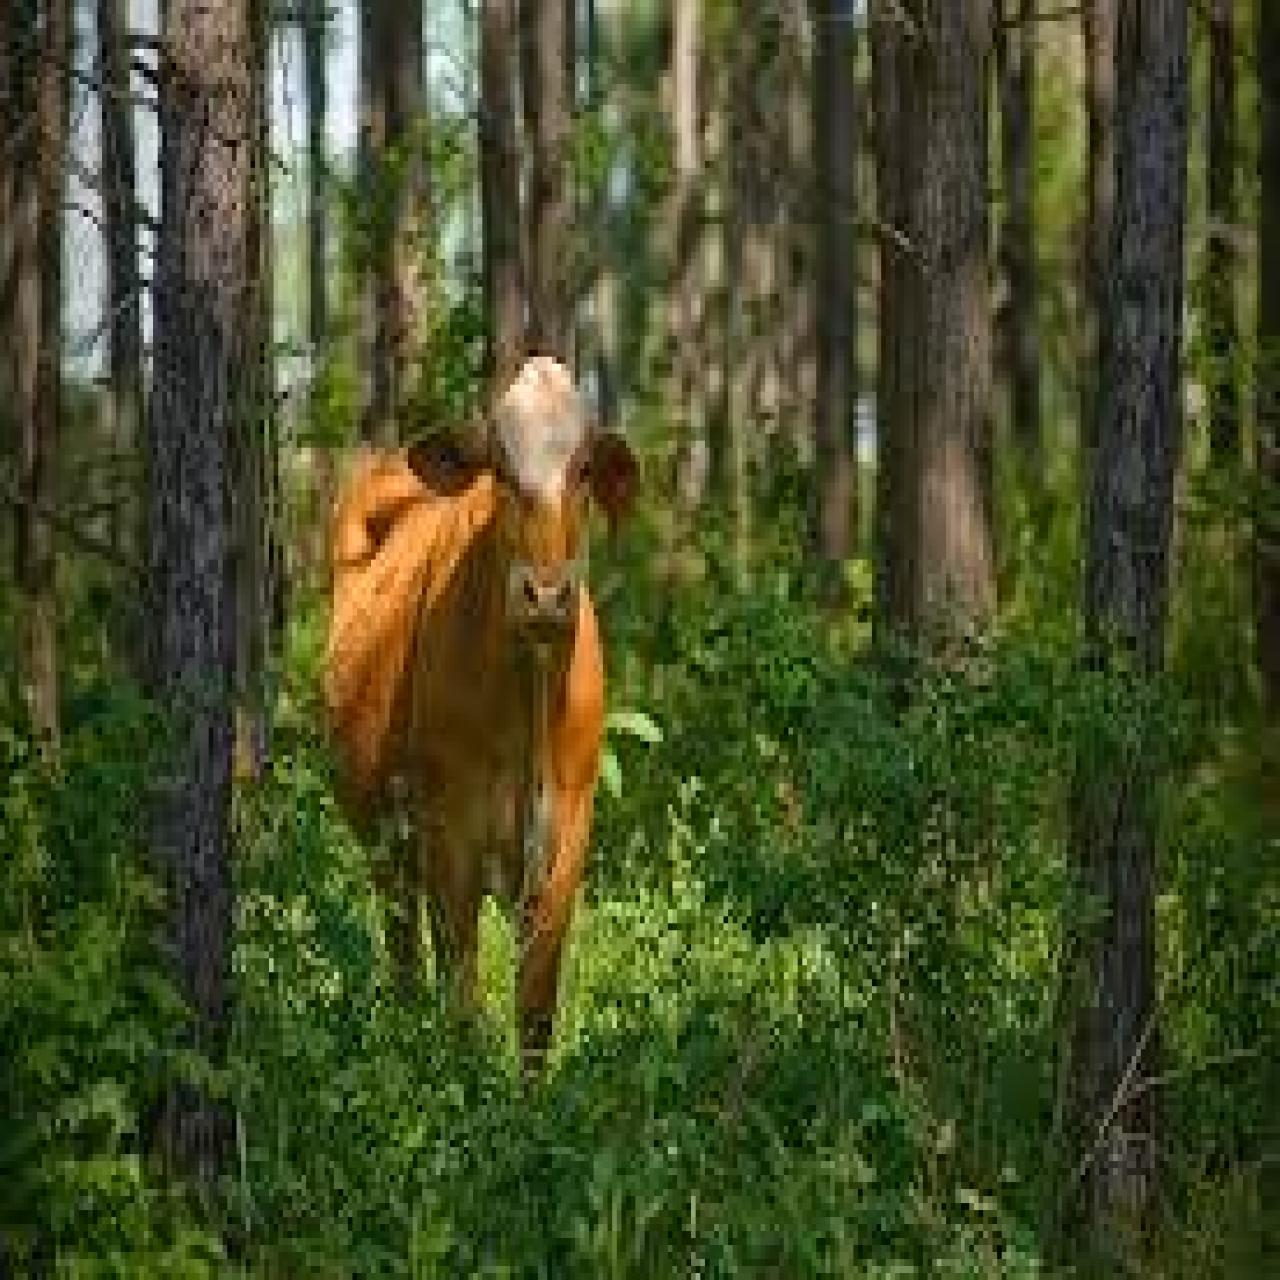cow: (315, 349, 645, 1091)
